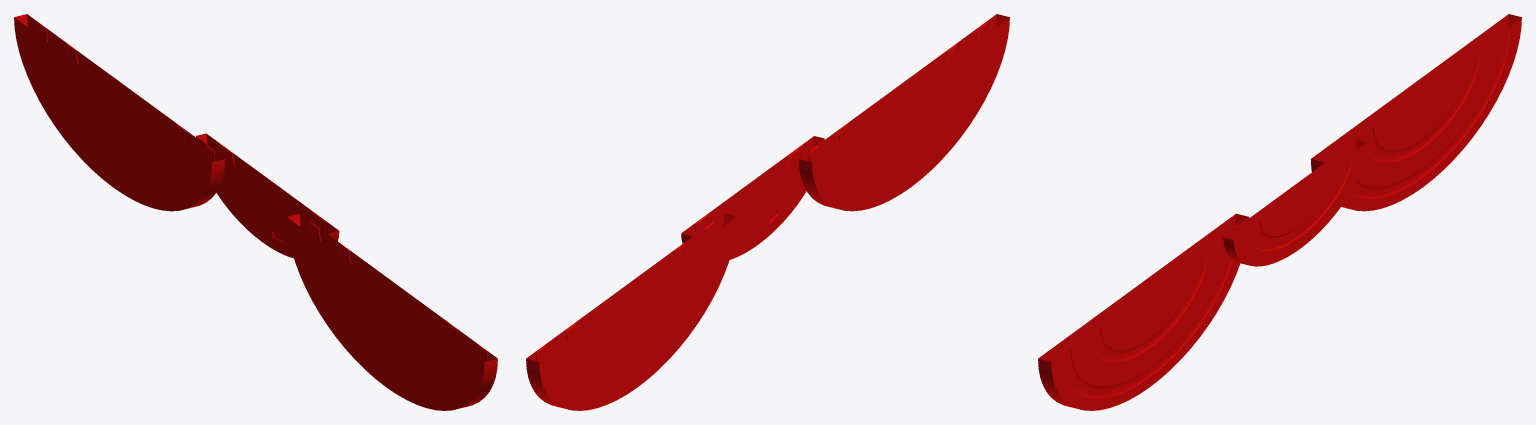
The model's file is topcurtain.fbx.
The picture shows the model from 3 angles, left to right: view 1: azimuth 30°, elevation 25°; view 2: azimuth 150°, elevation 25°; view 3: azimuth 330°, elevation 25°; orthographic projection.
Visible parts, largest first — view 1: pCylinder4; view 2: pCylinder4; view 3: pCylinder4.
Boxes of the visible parts, box(x1,y1,x2,y2) form: pCylinder4: box(14, 14, 497, 410); pCylinder4: box(526, 14, 1009, 410); pCylinder4: box(1038, 14, 1521, 410).
Size of the model in its own units: 84.92 by 315 by 2754.
